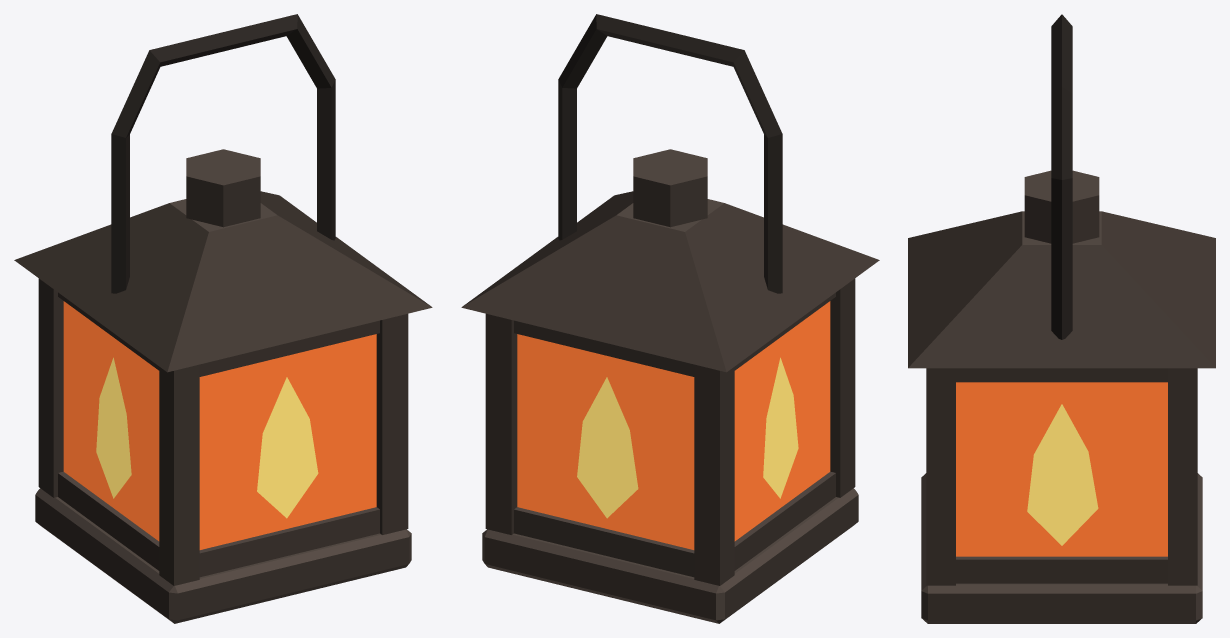
The model's file is tl_fx_lantern_v01.glb.
The picture shows the model from 3 angles, left to right: view 1: azimuth 30°, elevation 25°; view 2: azimuth 150°, elevation 25°; view 3: azimuth 270°, elevation 25°; orthographic projection.
Visible parts, largest first — view 1: tl_fx_lantern_v01, glow; view 2: tl_fx_lantern_v01, glow; view 3: tl_fx_lantern_v01, glow.
Part boxes in pixels (left/top/right/bottom): tl_fx_lantern_v01: left=14, top=14, right=432, bottom=623; glow: left=63, top=301, right=376, bottom=549; tl_fx_lantern_v01: left=461, top=14, right=879, bottom=623; glow: left=517, top=301, right=830, bottom=549; tl_fx_lantern_v01: left=908, top=14, right=1215, bottom=623; glow: left=956, top=382, right=1167, bottom=556.
Size of the model in its own units: 0.186 by 0.3445 by 0.186.
